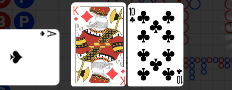10C: (128, 6, 136, 23)
AS: (38, 29, 57, 38)
